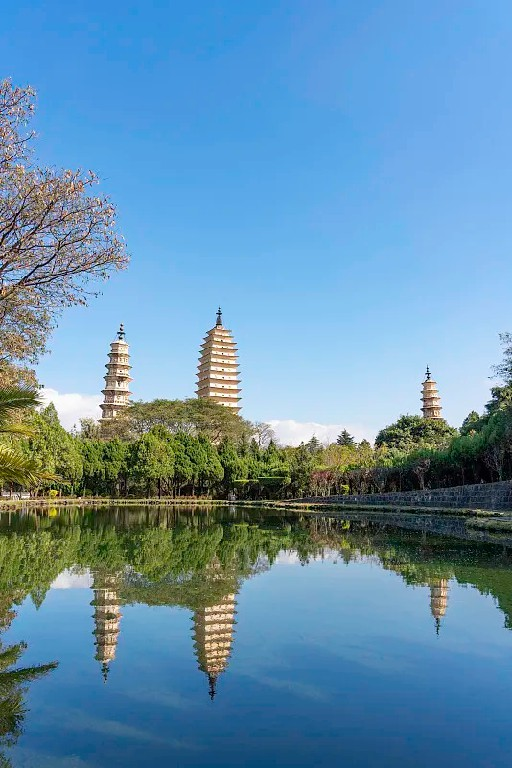ThreePagoda: (195, 305, 241, 416)
